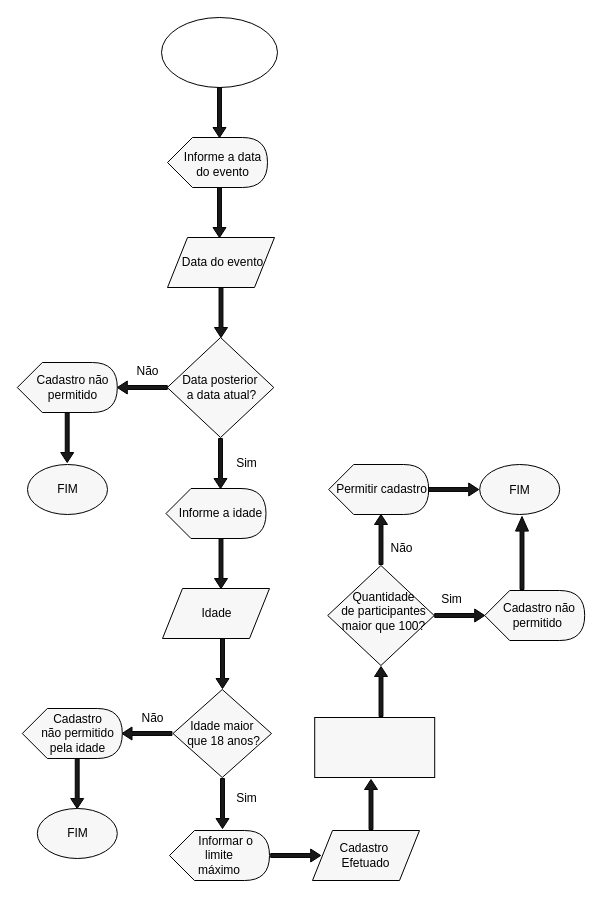
This 603x898 diagram has some shape labels left out. The box of each missing label's shape, as (x1, y1, x2, y2) in pixels:
Cadastro de eventos: (160, 16, 278, 88)
Cálculo da quantidade de participantes: (314, 716, 435, 778)
